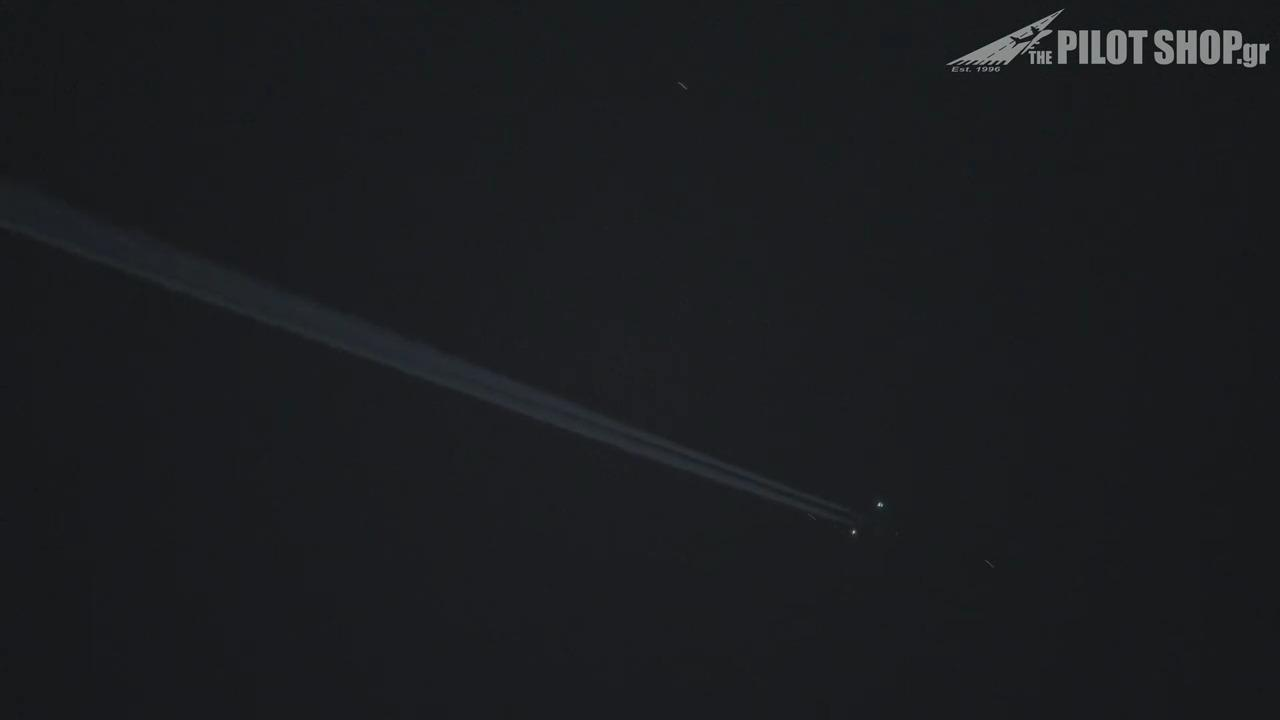Plane: (751, 466, 900, 547)
